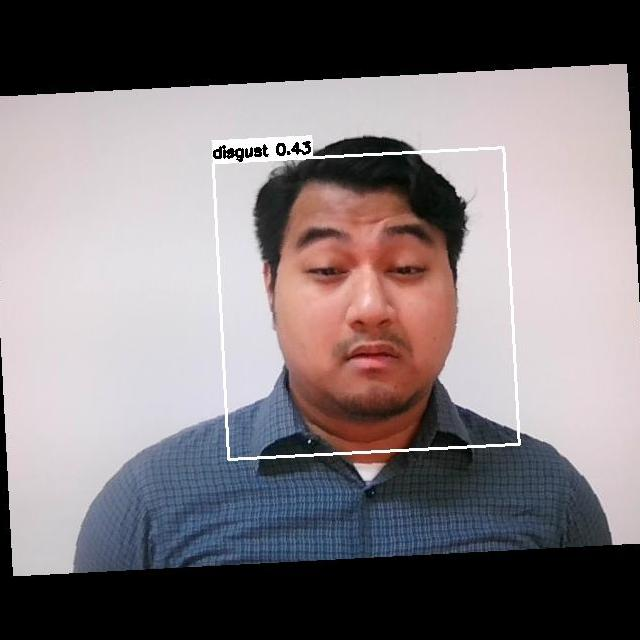Fear: (272, 209, 464, 389)
